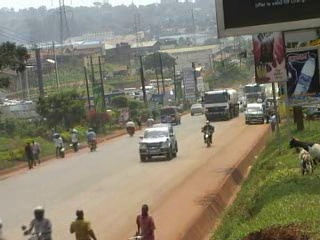Car: (136, 126, 180, 162), (187, 101, 204, 118), (236, 95, 245, 116), (236, 96, 249, 108)
Motorcycle: (20, 206, 59, 240), (198, 119, 218, 147), (84, 127, 100, 152), (123, 118, 139, 139)
